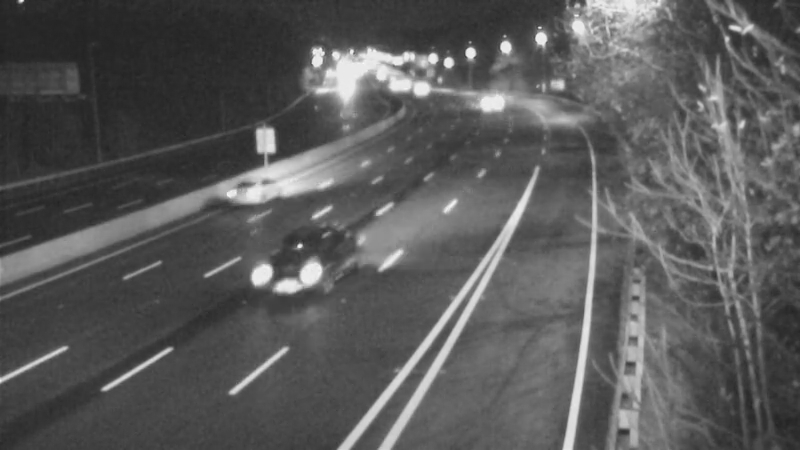vehicle: (199, 159, 279, 239), (244, 244, 324, 324), (392, 63, 442, 113), (467, 77, 517, 127)
